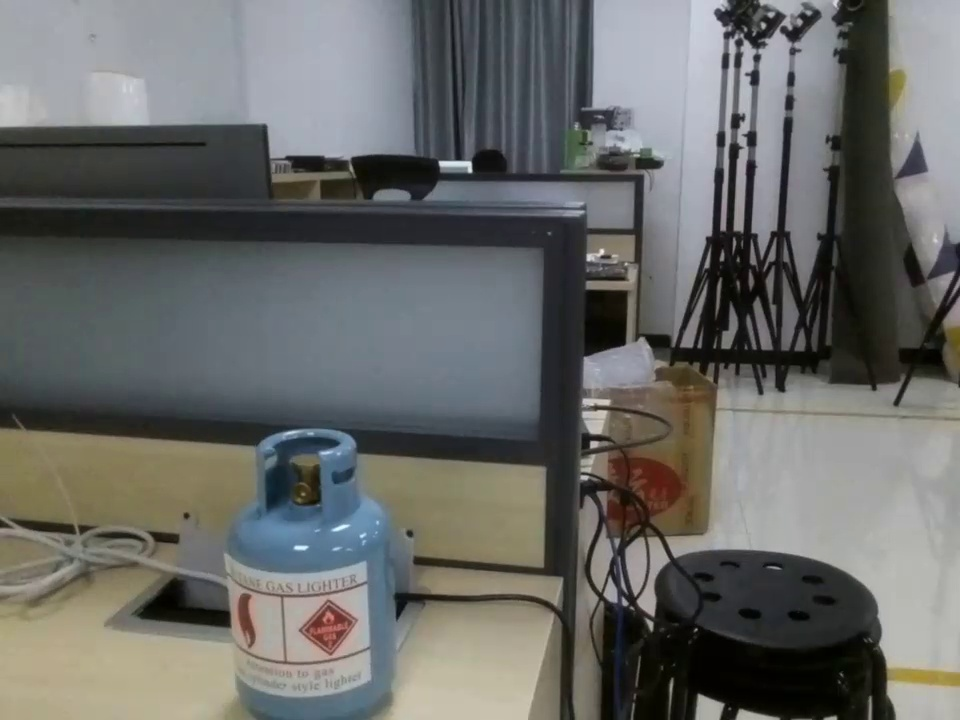gas tank: (191, 422, 441, 718)
